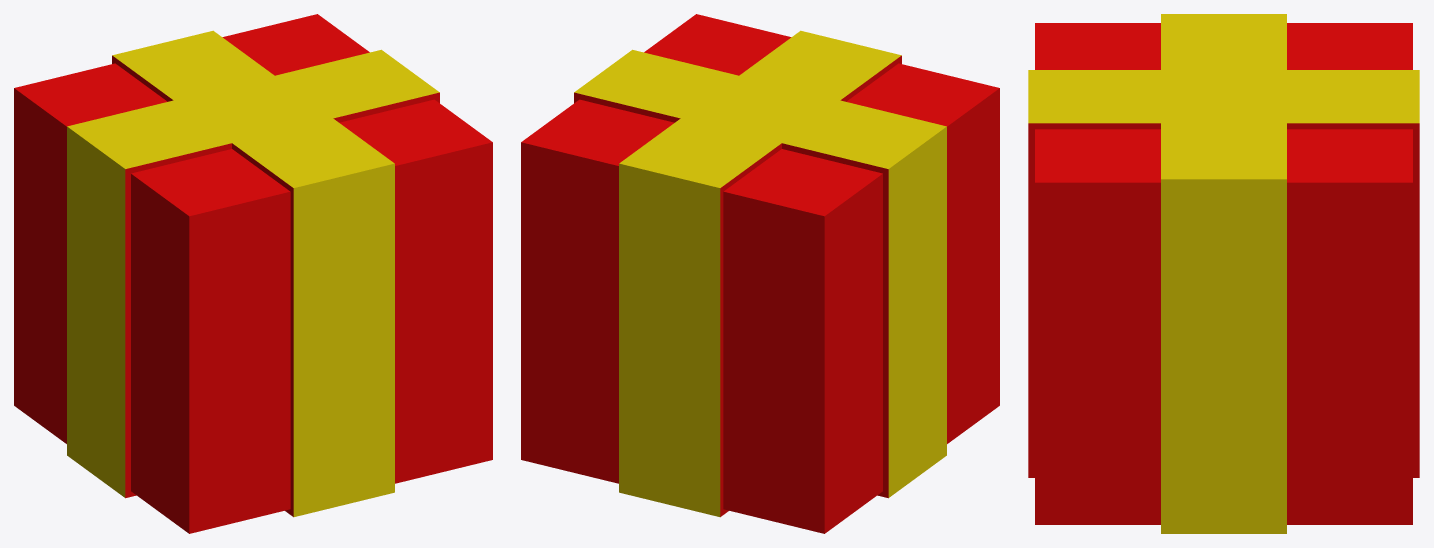
File: caja de regalo.fbx
3 views of the same model, side by side, from view 1: azimuth 30°, elevation 25°; view 2: azimuth 150°, elevation 25°; view 3: azimuth 270°, elevation 25° (orthographic). The views are drawn at different scales.
Parts seen in each view (by area): view 1: Cube.001; view 2: Cube.001; view 3: Cube.001.
Boxes of the visible parts, x1,y1,x2,y2 form: Cube.001: (14, 14, 492, 533); Cube.001: (521, 14, 999, 533); Cube.001: (1028, 14, 1419, 533).
Size of the model in its own units: 86.26 by 86.26 by 86.26.
